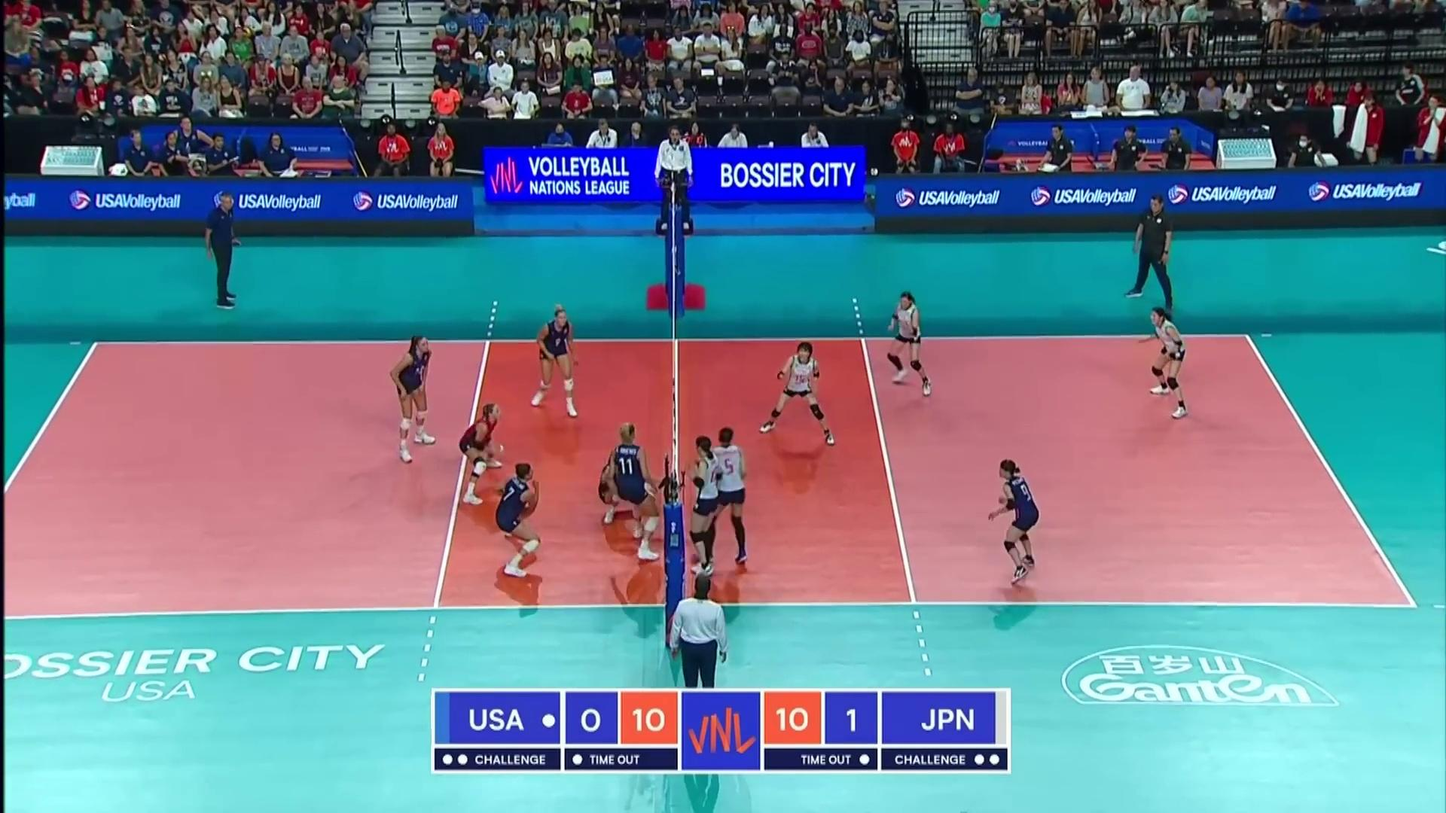player: (761, 346, 840, 447), (614, 423, 664, 568), (986, 459, 1043, 583), (494, 461, 550, 583), (390, 332, 436, 462), (531, 307, 584, 414), (882, 295, 936, 399), (1140, 308, 1190, 419), (710, 431, 750, 567), (597, 449, 663, 528), (457, 402, 505, 504), (686, 438, 721, 572)
refree: (674, 575, 725, 717), (657, 128, 692, 231)
